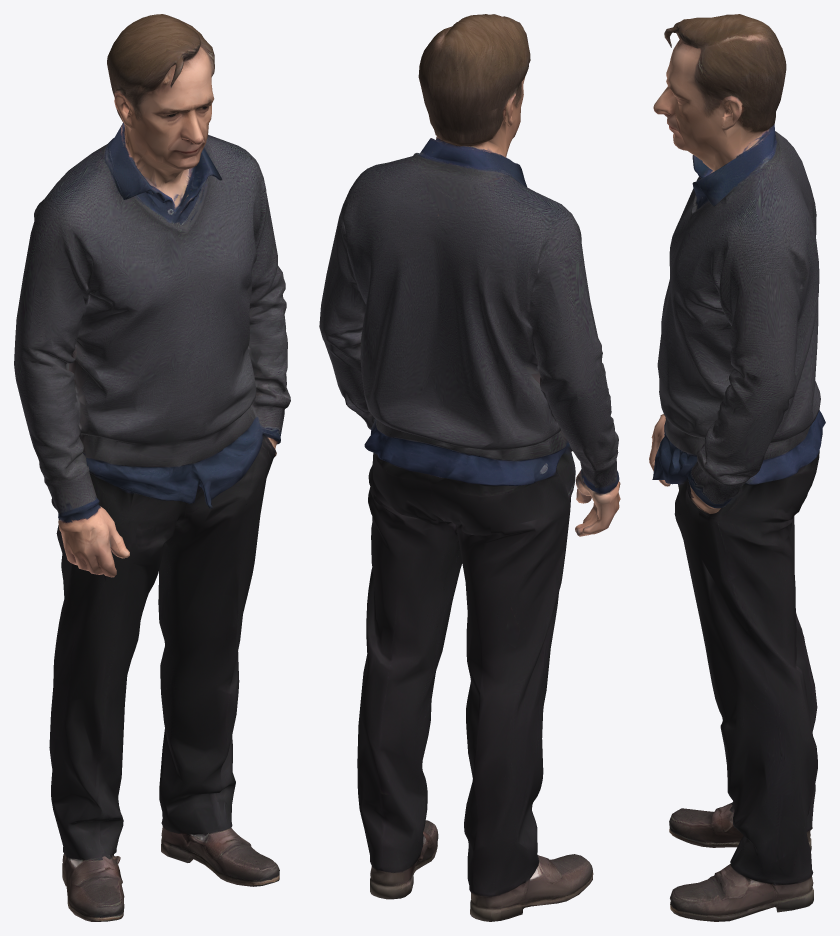
The model's file is Personnage1.glb.
The picture shows the model from 3 angles, left to right: view 1: azimuth 30°, elevation 25°; view 2: azimuth 150°, elevation 25°; view 3: azimuth 270°, elevation 25°; orthographic projection.
Parts seen in each view (by area): view 1: Meshy_Mesh_0; view 2: Meshy_Mesh_0; view 3: Meshy_Mesh_0.
Part boxes in pixels (<box>): Meshy_Mesh_0: <box>14,14,290,921</box>; Meshy_Mesh_0: <box>319,14,620,921</box>; Meshy_Mesh_0: <box>649,14,825,921</box>.
Size of the model in its own units: 0.6119 by 1.9 by 0.3545.
Materials: 1 (1 with a texture image).
